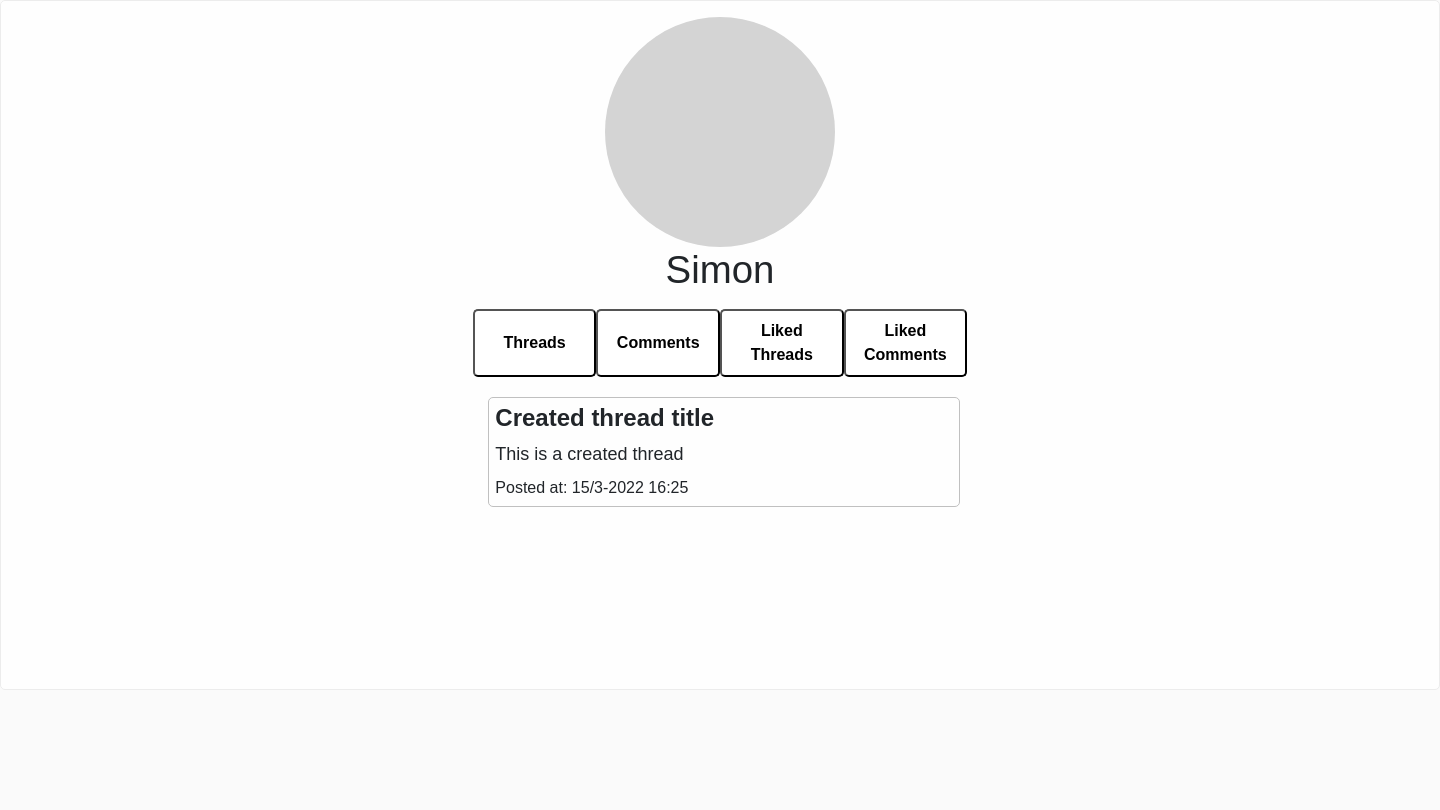
Test case: Clicking comments shows the comments created by the owner.
Expected: the text "This is a created thread" is shown, [495,444,683,464]
Step 1. Click the button "Comments" → (658, 343), box [596,309,720,377]
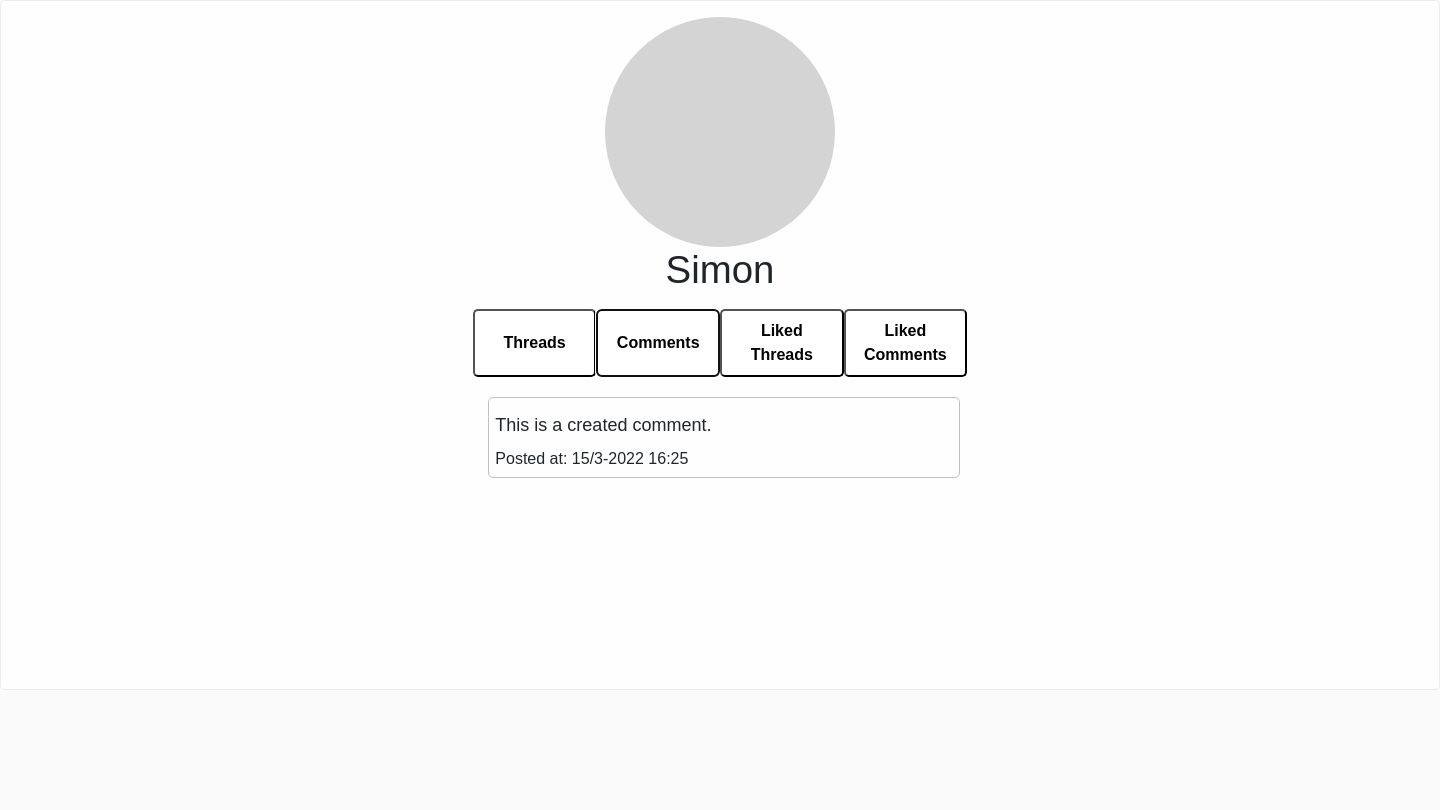
Expected: the text "This is a created comment." is shown, [495,415,711,435]
Expected: the link "This is a created thread" is gone
